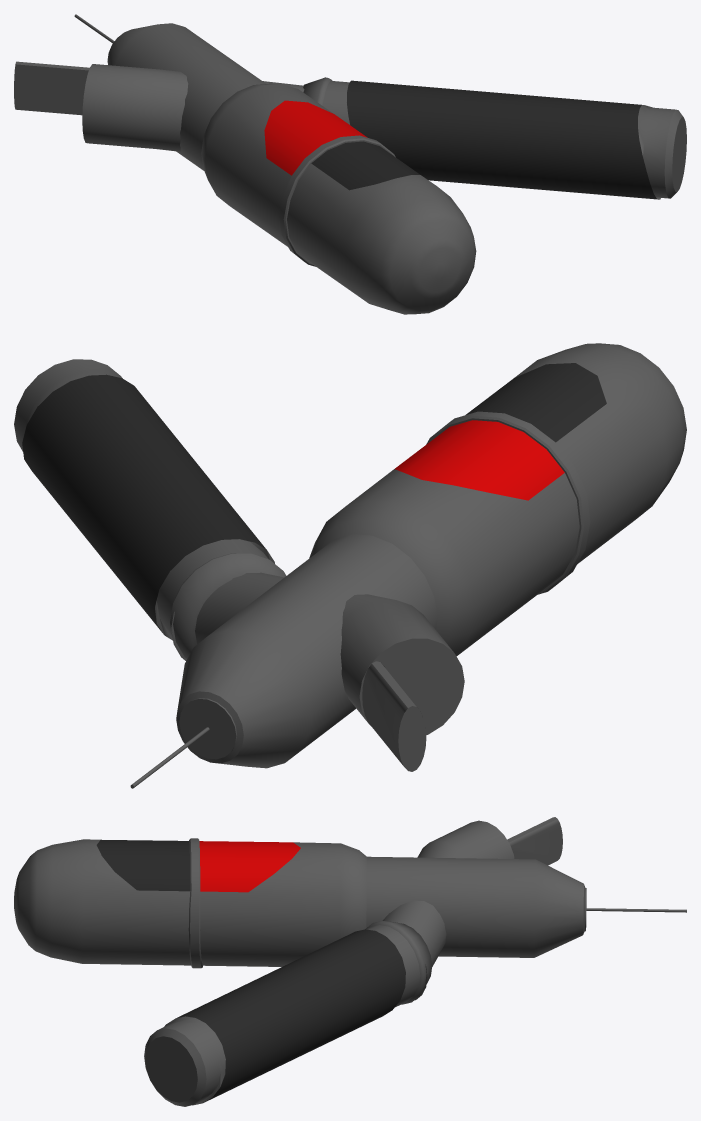
The model's file is tool3.fbx.
The picture shows the model from 3 angles, top to bottom: view 1: azimuth 30°, elevation 25°; view 2: azimuth 150°, elevation 25°; view 3: azimuth 270°, elevation 25°; orthographic projection. The views are drawn at different scales.
Visible parts, largest first — view 1: tool3; view 2: tool3; view 3: tool3.
Part boxes in pixels (x1=…): tool3: x1=14, y1=14, x2=686, y2=314; tool3: x1=14, y1=343, x2=686, y2=788; tool3: x1=14, y1=817, x2=686, y2=1106.
Bounding box in the file's own units: 4.16 × 1.07 × 5.45.
